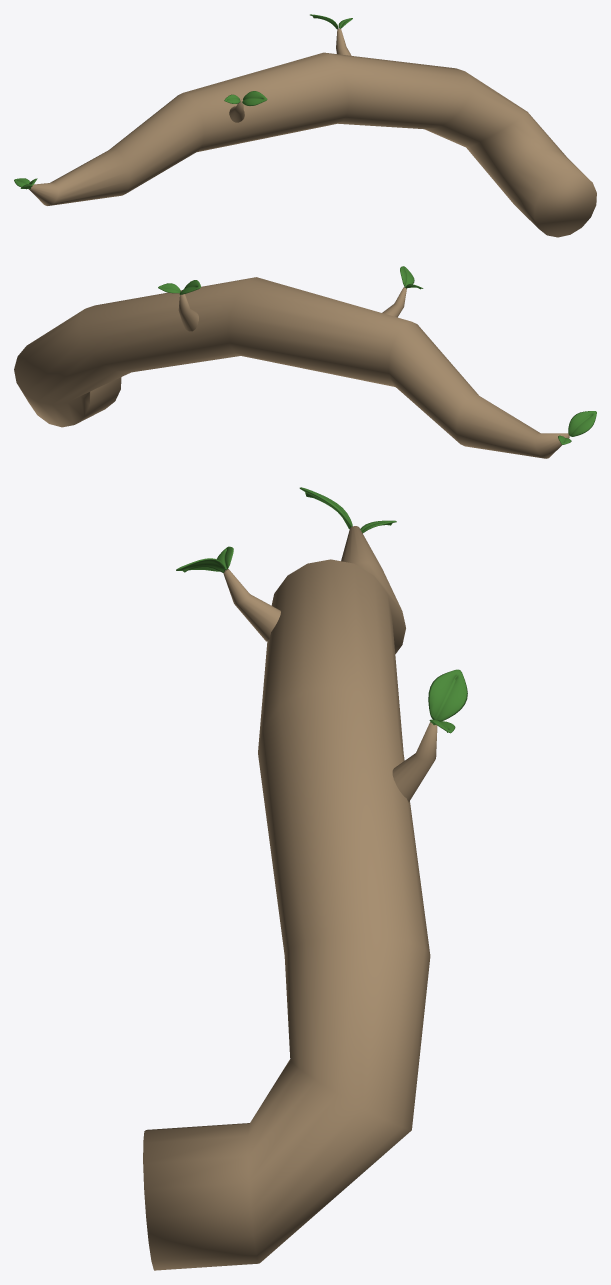
File: Branch Platform 2.fbx
3 renders of one model, top to bottom at view 1: azimuth 30°, elevation 25°; view 2: azimuth 150°, elevation 25°; view 3: azimuth 270°, elevation 25°, orthographic. The views are drawn at different scales.
Parts seen in each view (by area): view 1: Cylinder; view 2: Cylinder, Plane, Cylinder.001, Cylinder.002; view 3: Cylinder, Cylinder.001, Plane.002, Cylinder.002.
Part boxes in pixels (box(x1,y1,x2,y2)): Cylinder: box(29, 52, 596, 237); Cylinder: box(14, 277, 569, 458); Plane: box(568, 411, 596, 436); Cylinder.001: box(178, 294, 198, 331); Cylinder.002: box(382, 287, 406, 317); Cylinder: box(143, 526, 430, 1270); Cylinder.001: box(392, 722, 437, 802); Plane.002: box(428, 669, 467, 721); Cylinder.002: box(223, 569, 280, 641).
Size of the model in its own units: 585 by 221 by 155.
